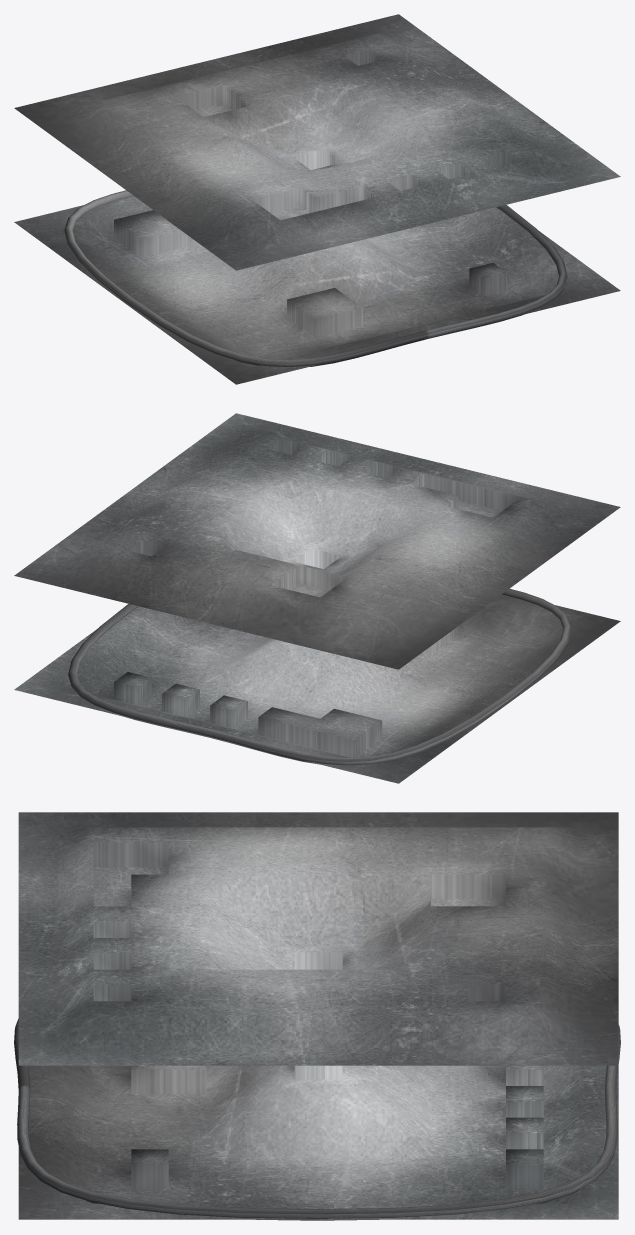
The model's file is pieza26.fbx.
3 renders of one model, top to bottom at view 1: azimuth 30°, elevation 25°; view 2: azimuth 150°, elevation 25°; view 3: azimuth 270°, elevation 25°, orthographic. The views are drawn at different scales.
Visible parts, largest first — view 1: BezierCircle.067; view 2: BezierCircle.067; view 3: BezierCircle.067.
Part boxes in pixels (x1=…): BezierCircle.067: x1=14, y1=14, x2=620, y2=384; BezierCircle.067: x1=14, y1=413, x2=620, y2=783; BezierCircle.067: x1=14, y1=812, x2=620, y2=1220.
Bounding box in the file's own units: 285 × 98.33 × 289.
Materials: 4 (4 with a texture image).
